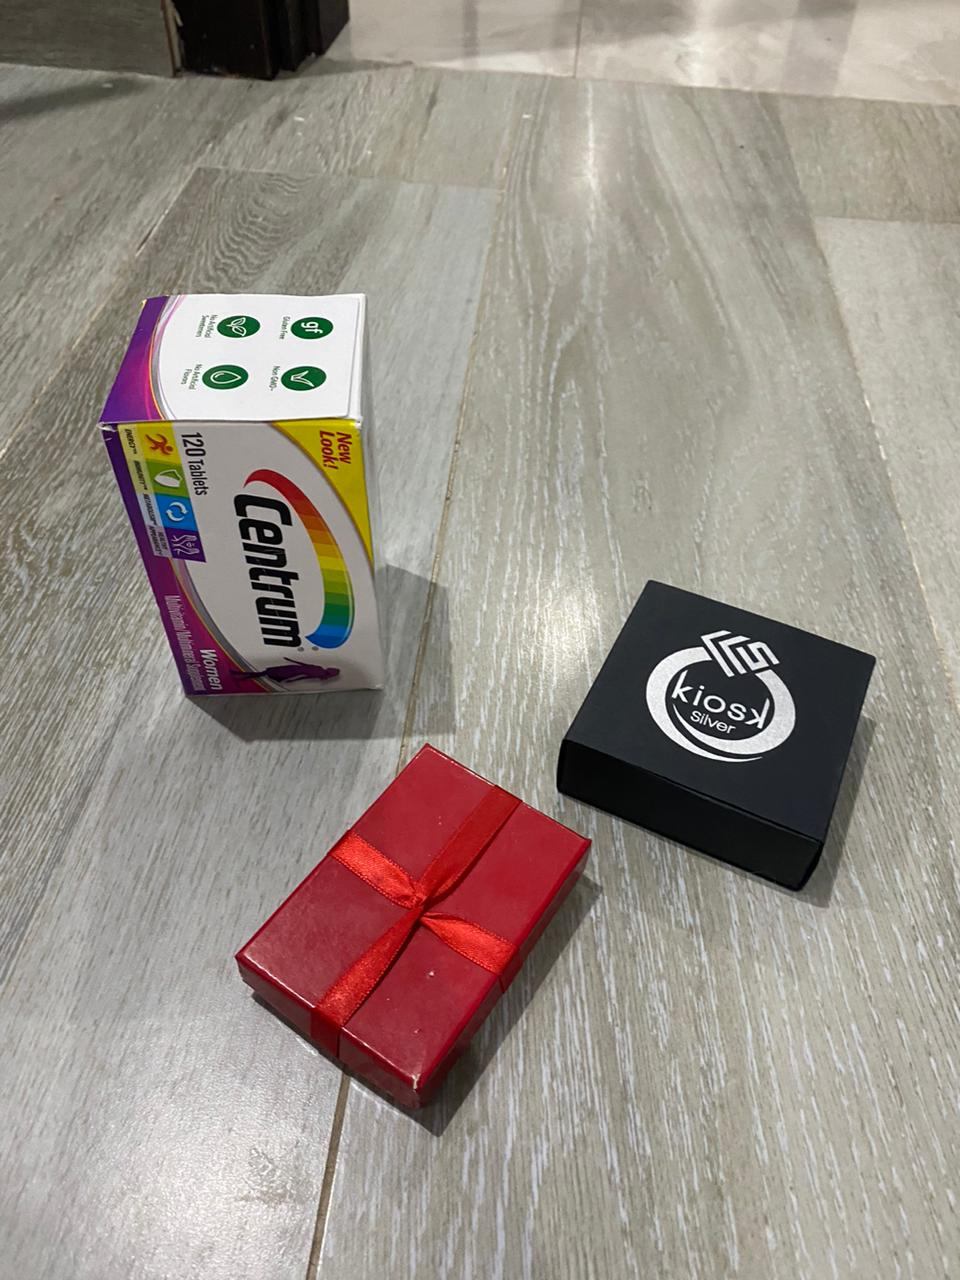Black Box: (227, 744, 602, 1127)
Centrum: (97, 292, 398, 700)
Red Box: (551, 574, 880, 893)
